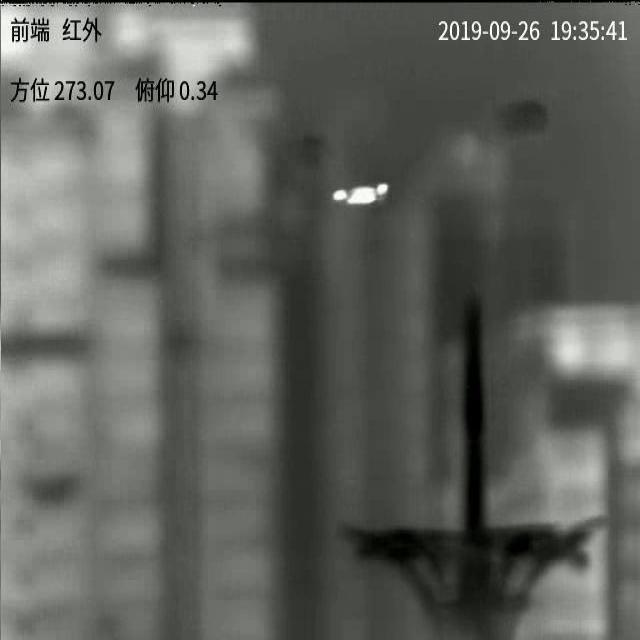drone: (331, 182, 389, 205)
